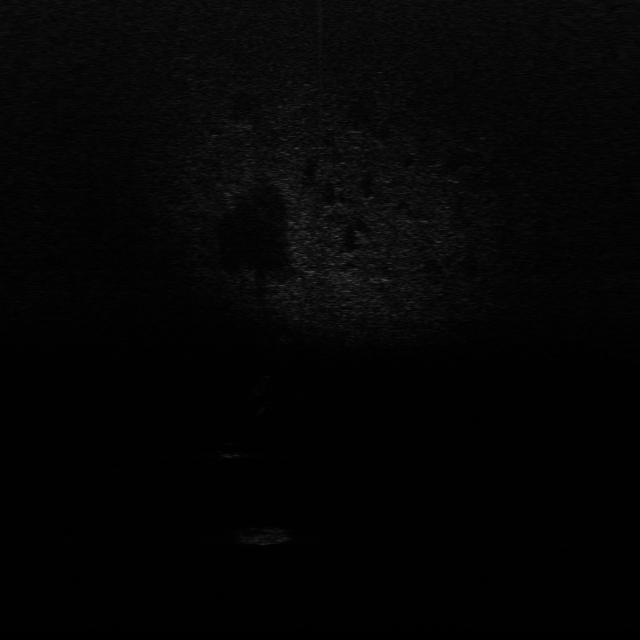ball: (217, 441, 246, 462)
circle cage: (228, 525, 298, 549)
human body: (247, 373, 279, 420)
